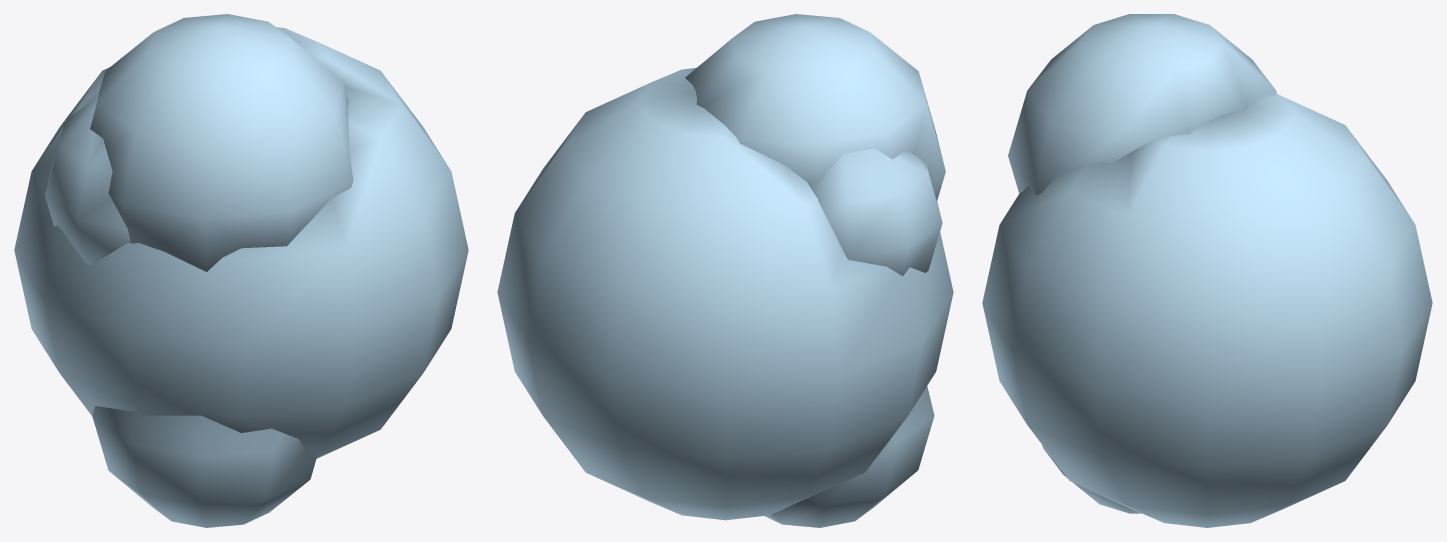
Rendered from FireHose.fbx.
3 renders of one model, left to right at view 1: azimuth 30°, elevation 25°; view 2: azimuth 150°, elevation 25°; view 3: azimuth 270°, elevation 25°, orthographic.
Visible parts, largest first — view 1: water; view 2: water; view 3: water.
Part boxes in pixels (<box>): water: <box>14,14,468,527</box>; water: <box>497,14,953,527</box>; water: <box>982,14,1432,527</box>.
Size of the model in its own units: 0.26 by 0.3075 by 0.26.
